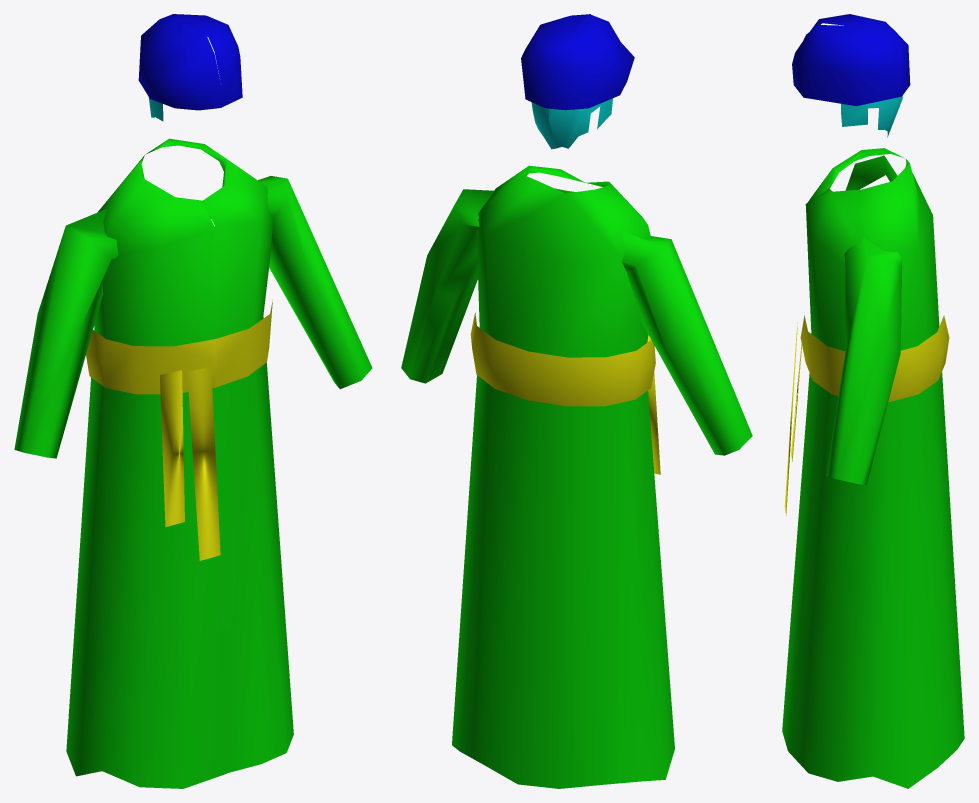
The model's file is figure-far.glb.
3 renders of one model, left to right at view 1: azimuth 30°, elevation 25°; view 2: azimuth 150°, elevation 25°; view 3: azimuth 270°, elevation 25°, orthographic. The views are drawn at different scales.
Visible parts, largest first — view 1: figure-far; view 2: figure-far; view 3: figure-far.
Part boxes in pixels (x1=…): figure-far: x1=14, y1=14, x2=372, y2=788; figure-far: x1=401, y1=14, x2=752, y2=788; figure-far: x1=782, y1=14, x2=964, y2=788.
Bounding box in the file's own units: 0.8432 × 1.7 × 0.3933.
